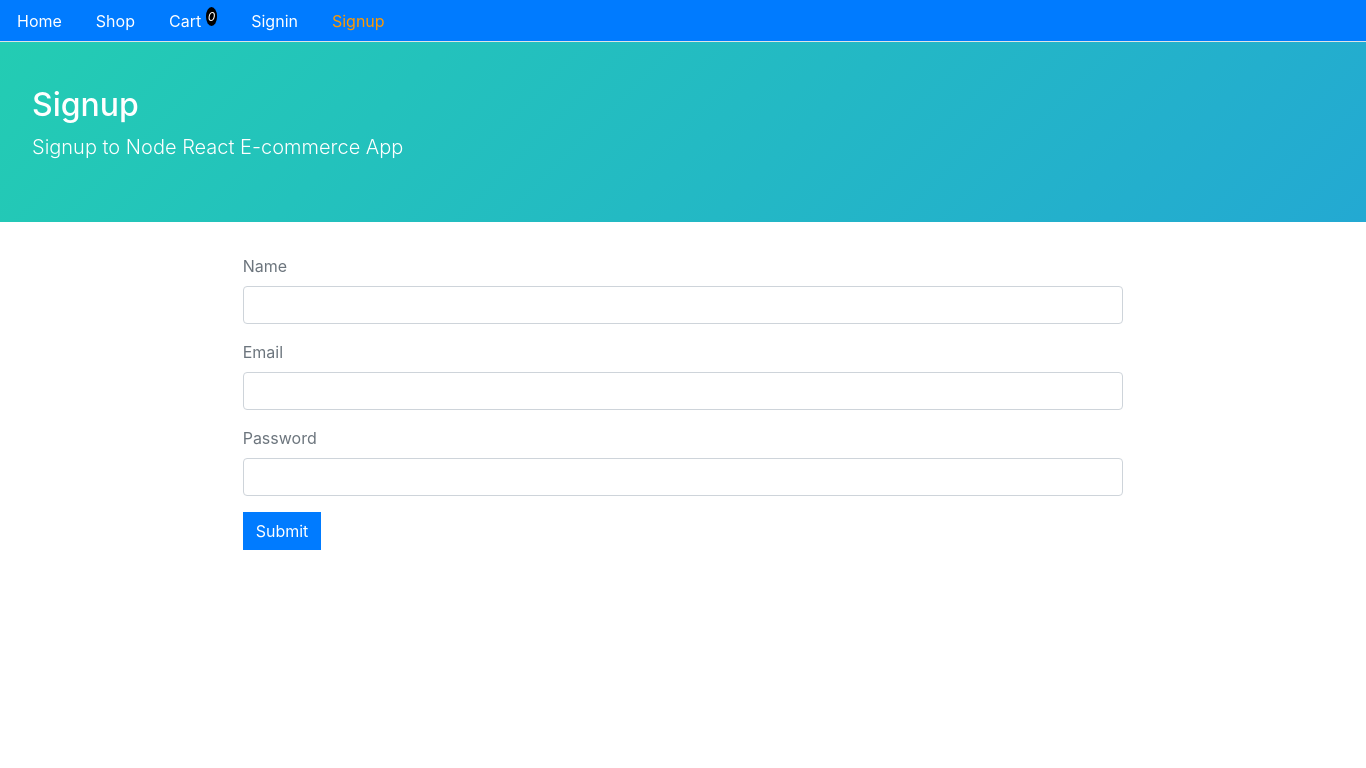
Test: signup flow › shows the success message and clears the form on a successful signup
Type "Jane Doe" into the field below "Name".
click(684, 305); type("Jane Doe")  # box x1=243 y1=286 x2=1124 y2=324
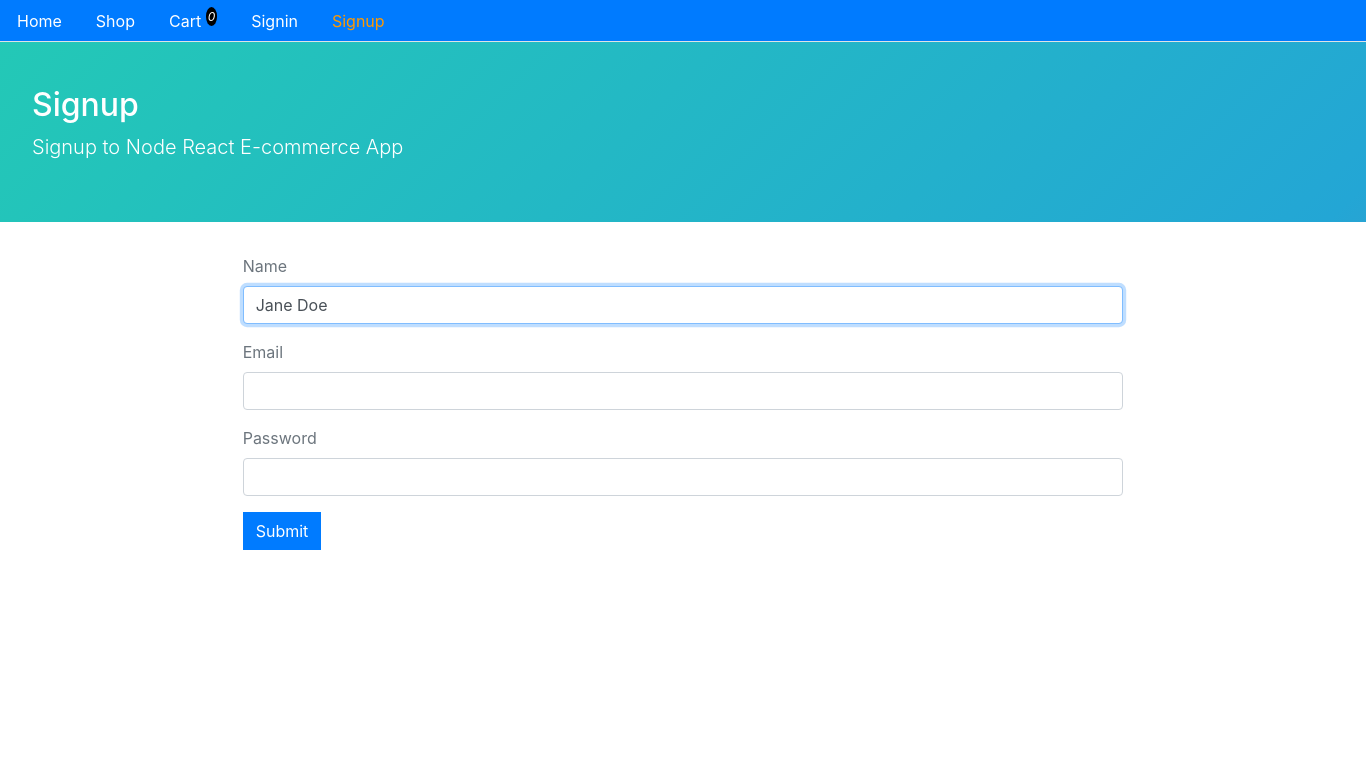
Type "jane@example.com" into the field below "Email".
click(684, 391); type("jane@example.com")  # box x1=243 y1=372 x2=1124 y2=410
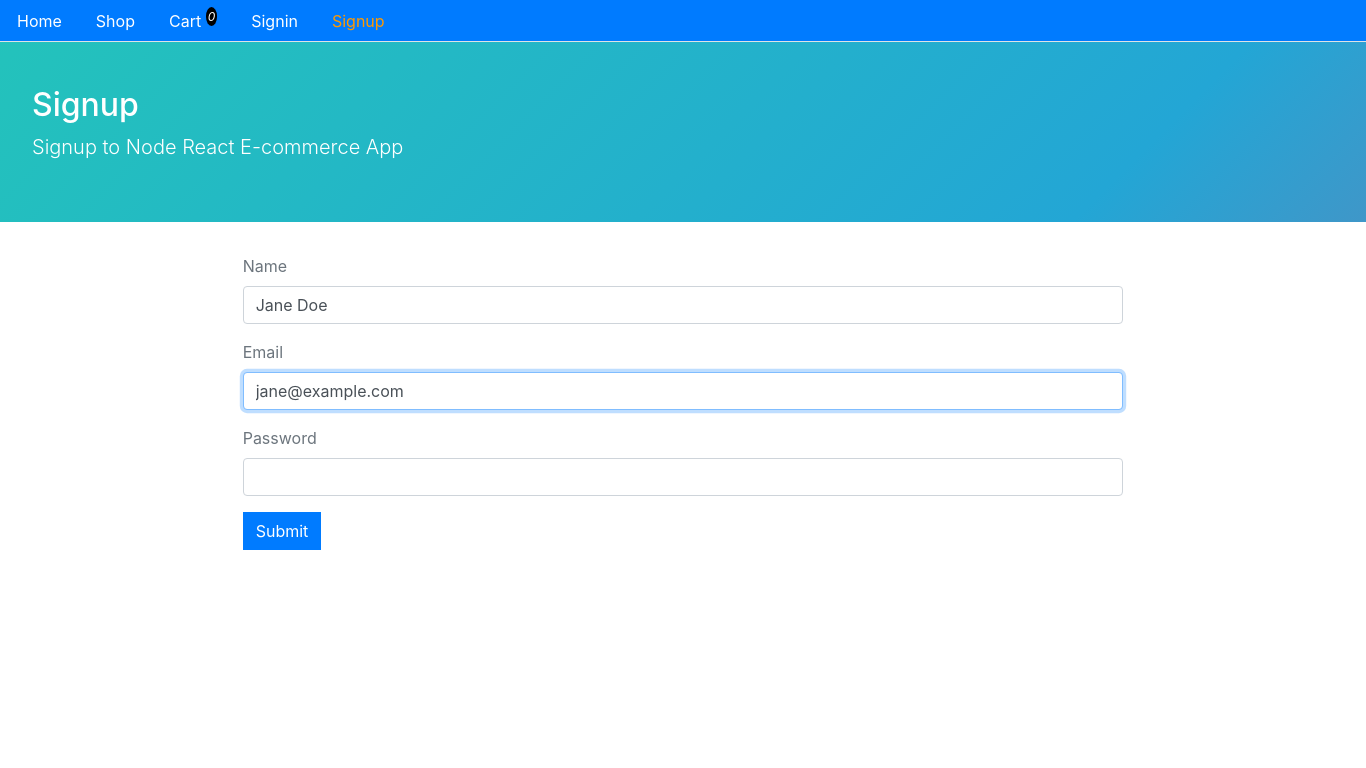
Type "secret1" into the password field.
click(684, 477); type("secret1")  # box x1=243 y1=458 x2=1124 y2=496
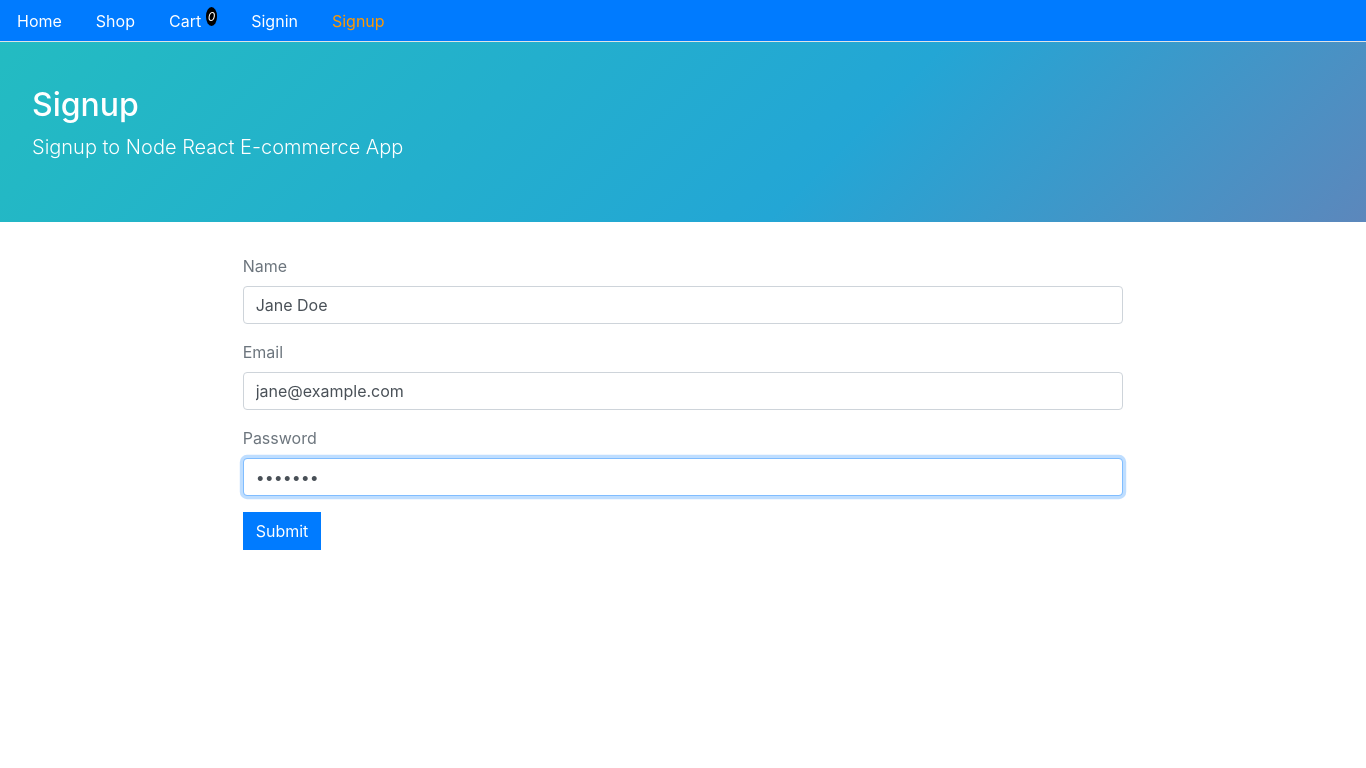
Click the button "Submit".
click(283, 531)  # box x1=243 y1=512 x2=322 y2=550
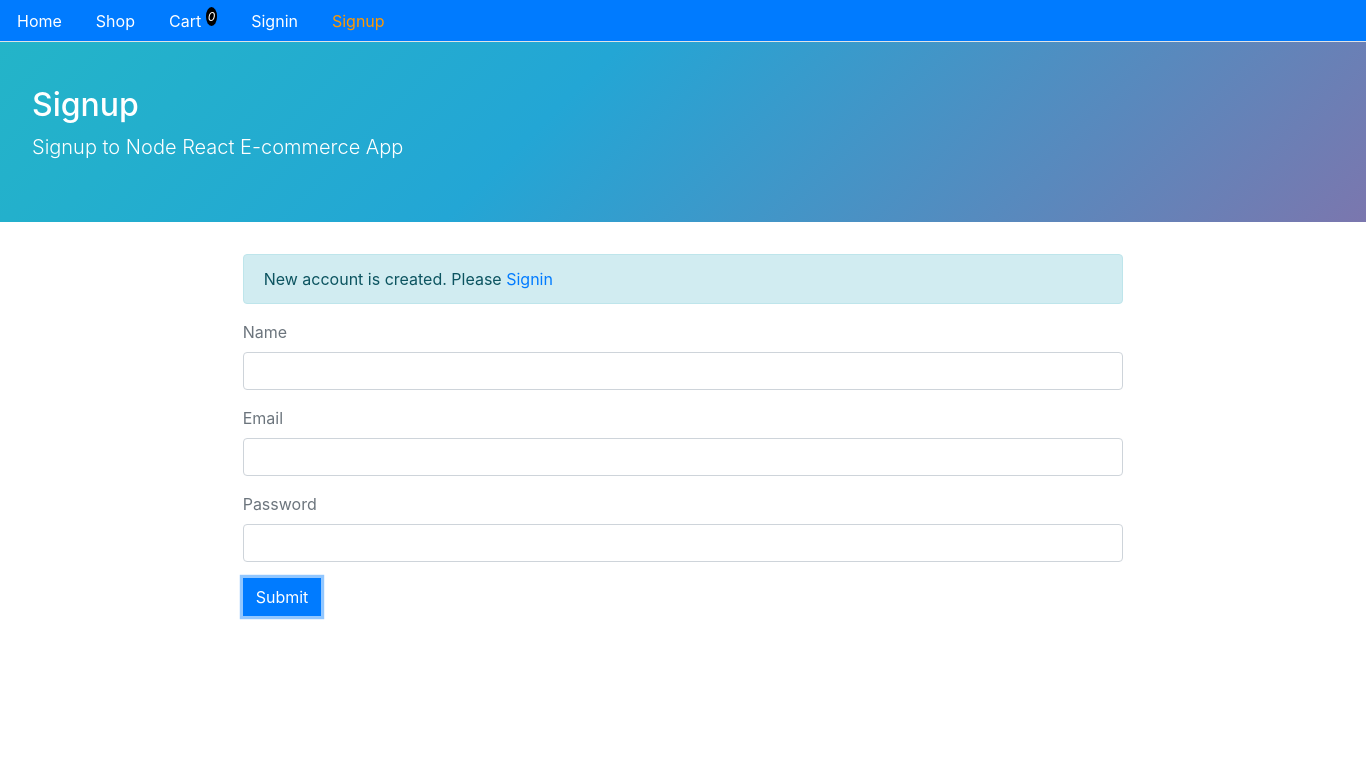
Expected: the element with class "alert-info" is shown, x1=243 y1=254 x2=1124 y2=304
Expected: the element with class "alert-info" shows "New account is created", x1=264 y1=269 x2=507 y2=289
